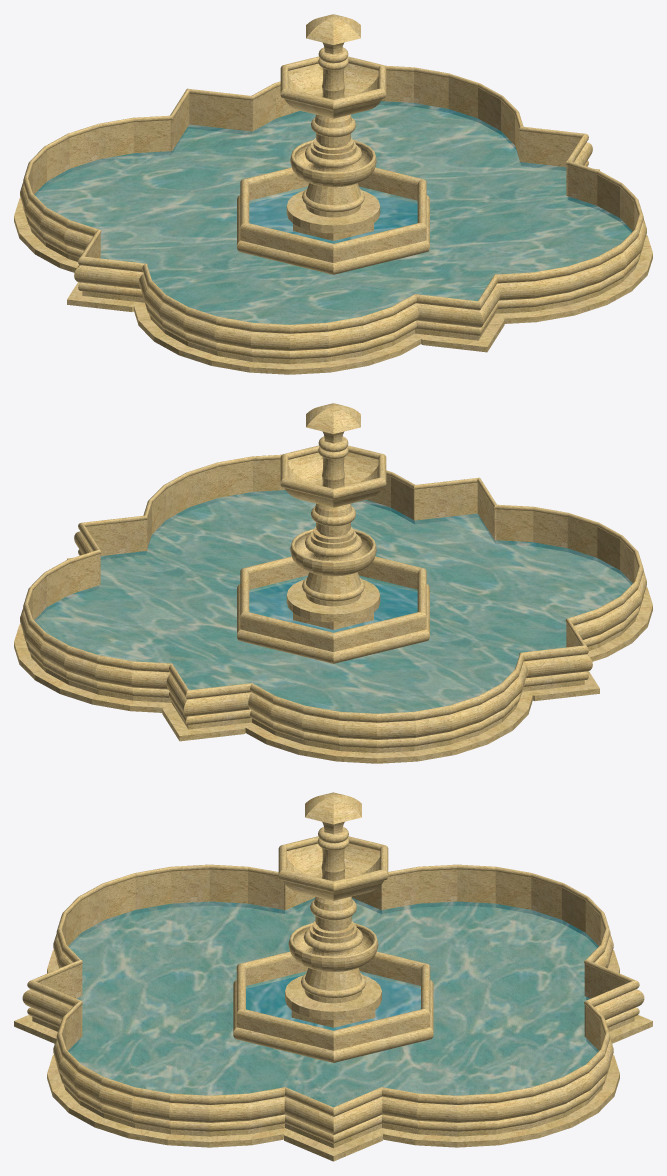
Rendered from fontaine.glb.
3 renders of one model, top to bottom at view 1: azimuth 30°, elevation 25°; view 2: azimuth 150°, elevation 25°; view 3: azimuth 270°, elevation 25°, orthographic. The views are drawn at different scales.
Parts seen in each view (by area): view 1: Fontaine; view 2: Fontaine; view 3: Fontaine.
Part boxes in pixels (box(x1,y1,x2,y2)): Fontaine: box(14, 14, 652, 374); Fontaine: box(14, 403, 652, 763); Fontaine: box(14, 792, 652, 1161).
Bounding box in the file's own units: 178 × 71.17 × 178.
2 materials, 2 textured.
